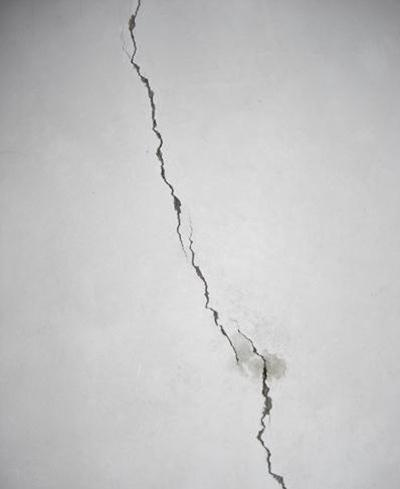crack: (157, 182, 223, 335)
